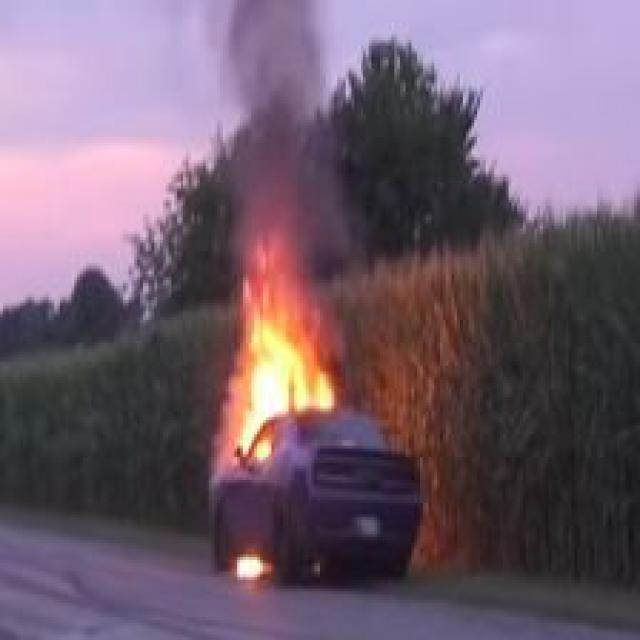fire: (214, 237, 360, 494)
